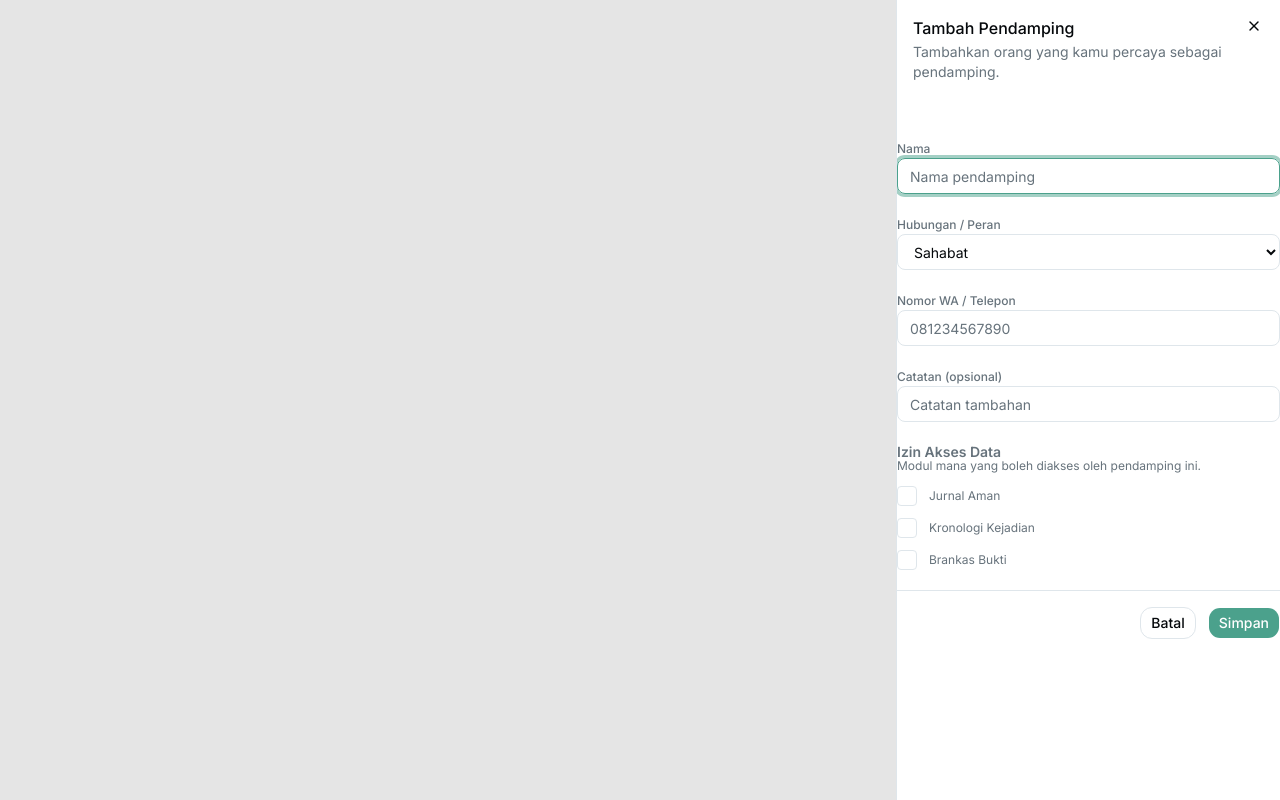
Test: CompanionSheet › shows custom role input when role is 'other'
Select "Lainnya" in the dropdown labelled "Hubungan / Peran". click: coordinates (1088, 252)
box: [897,234,1279,270]
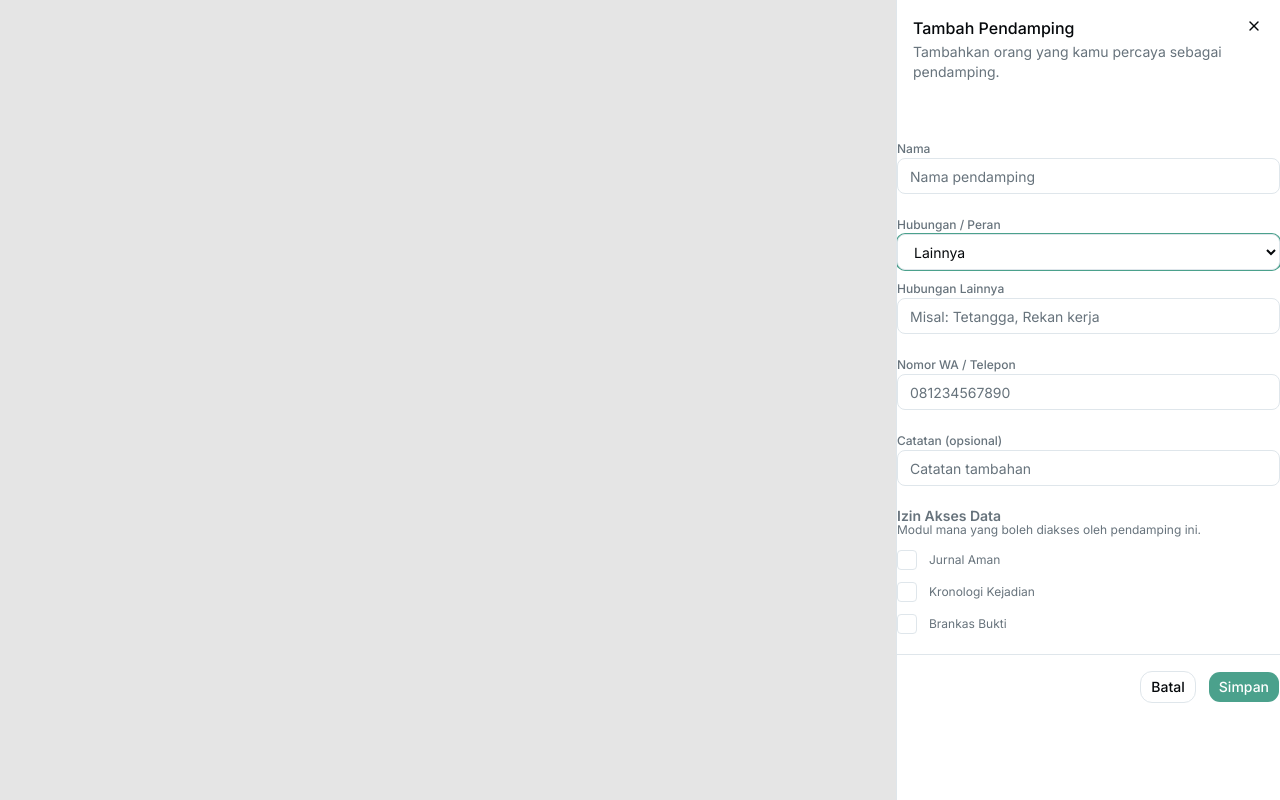
Expected: the field labelled "Hubungan Lainnya" is shown, [897,298,1279,334]
